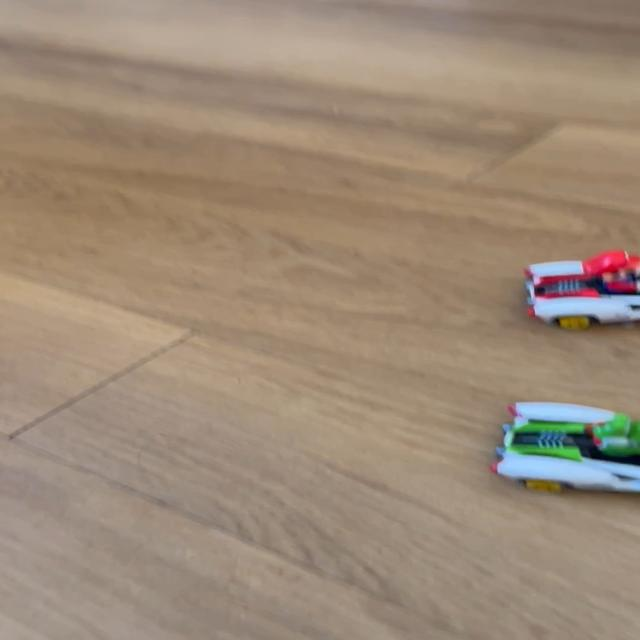mario: (503, 239, 637, 333)
yoshi: (479, 396, 640, 504)
